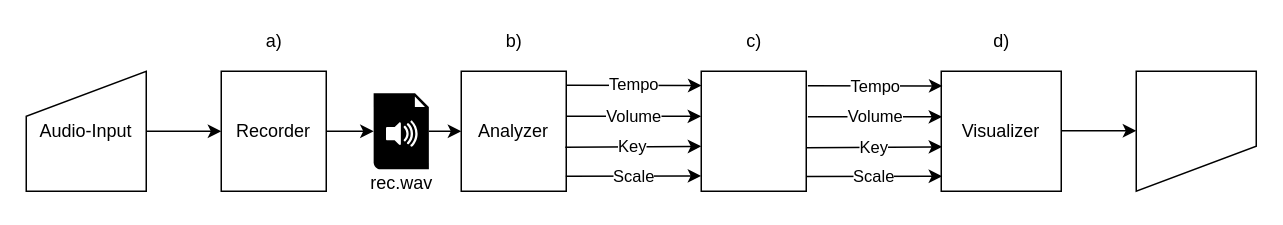
Image size: 1283x225. Some labels were removed from this diagram. The box of each missing label's shape, as (x1, y1, x2, y2) in pixels:
Cache: (700, 70, 806, 191)
LED-Ouput: (1135, 70, 1256, 191)
